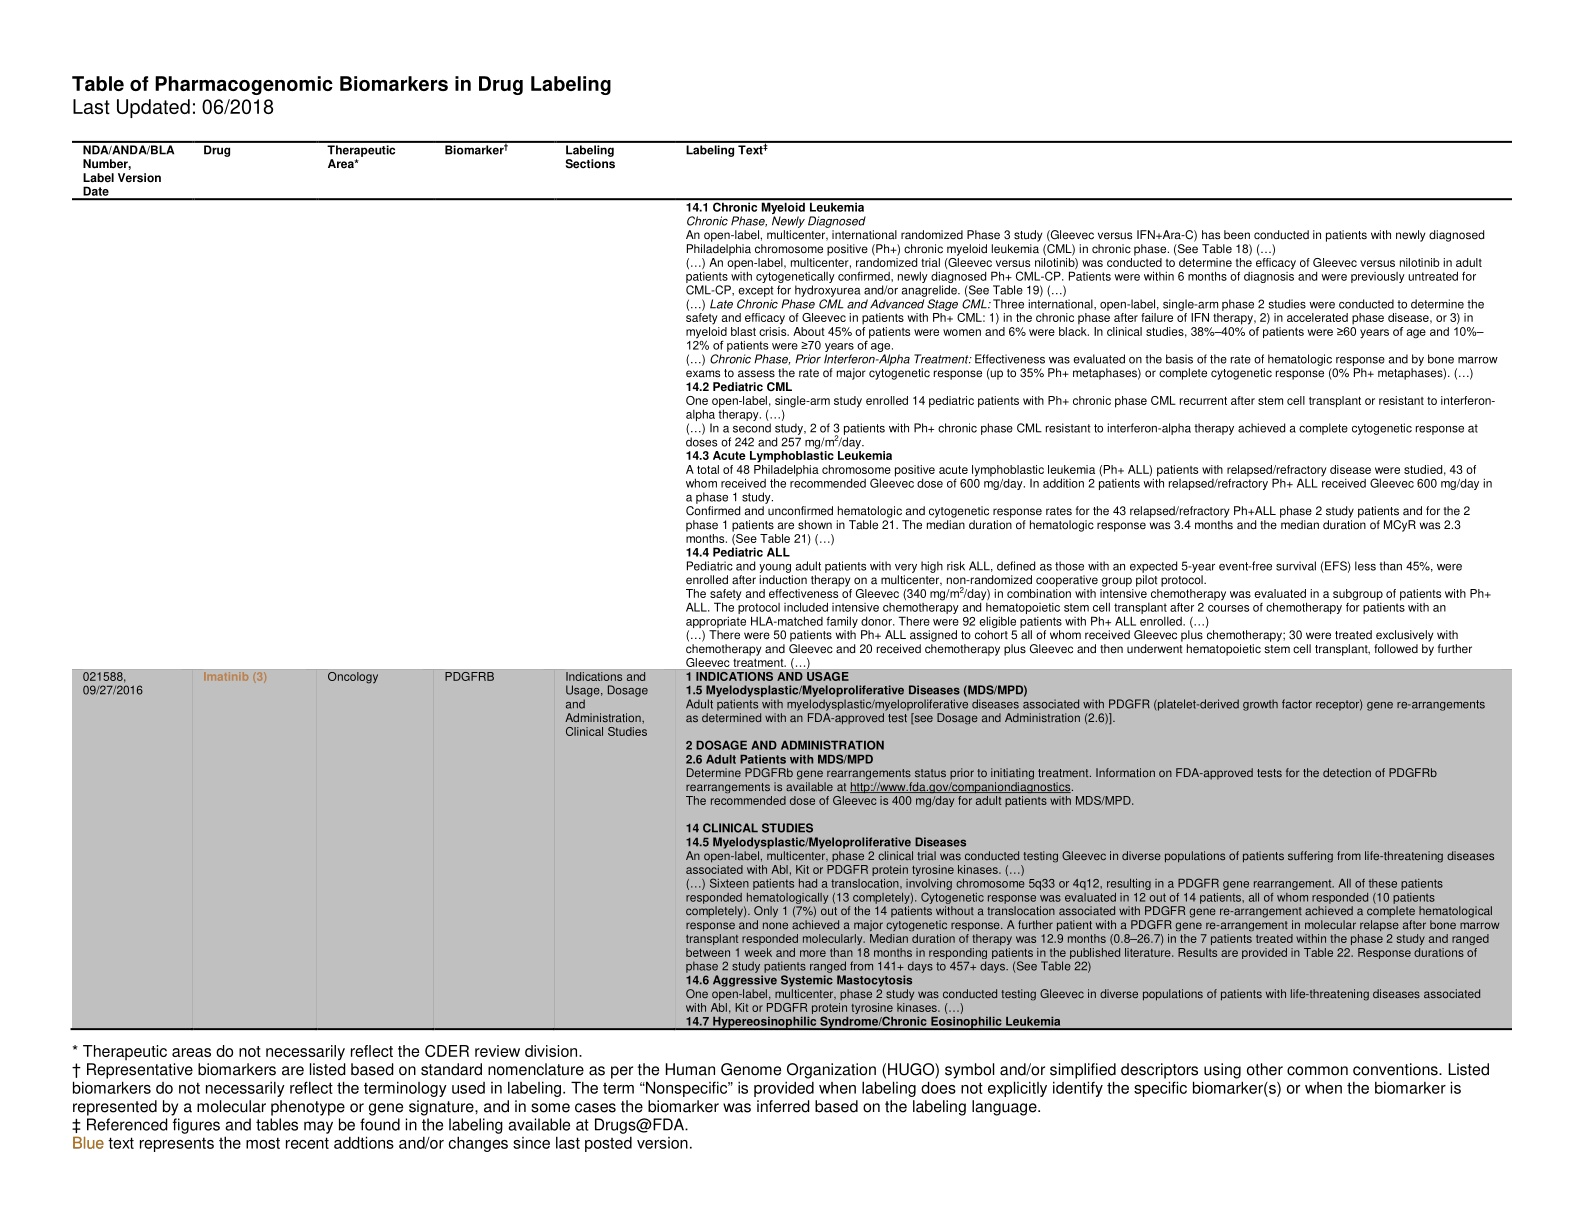partial_lined: (71, 140, 1515, 1031)
